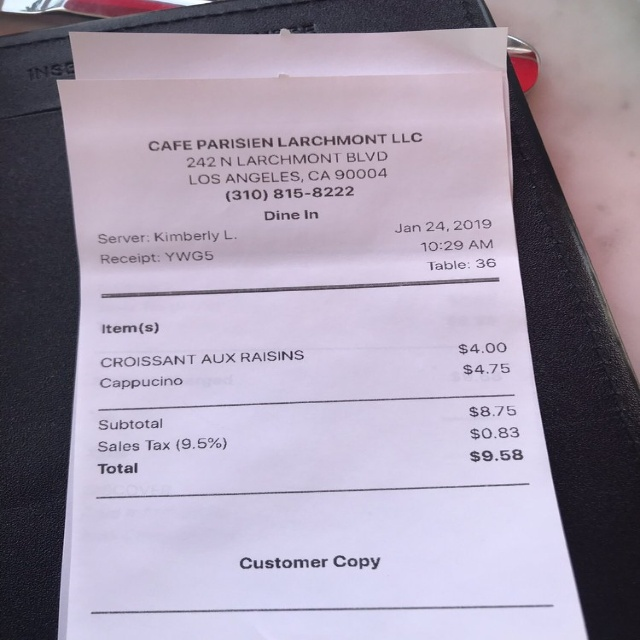invoice_table: (99, 343, 512, 389)
invoice_title: (140, 131, 426, 204)
invoice_total: (98, 449, 528, 477)
